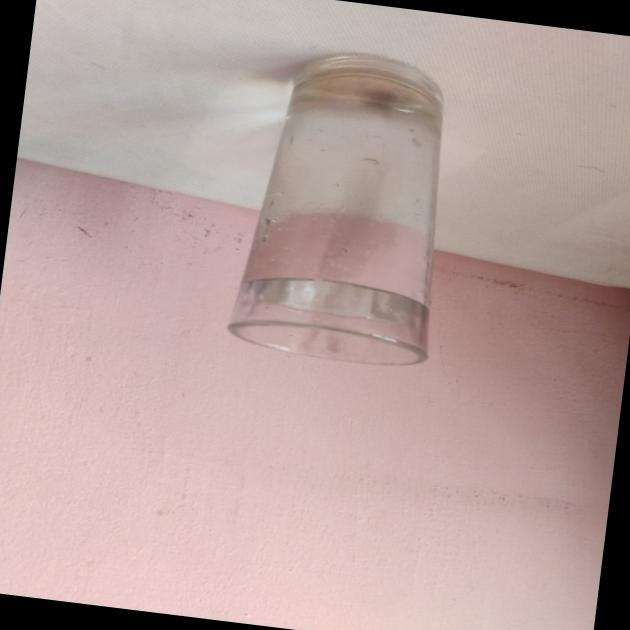glass of water: (190, 16, 485, 386)
